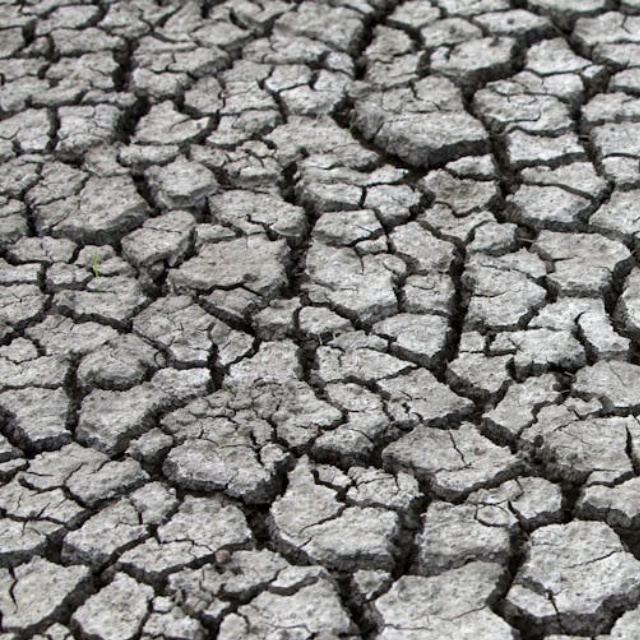深大裂缝: (475, 392, 640, 640)
网状裂隙: (0, 0, 509, 506)
